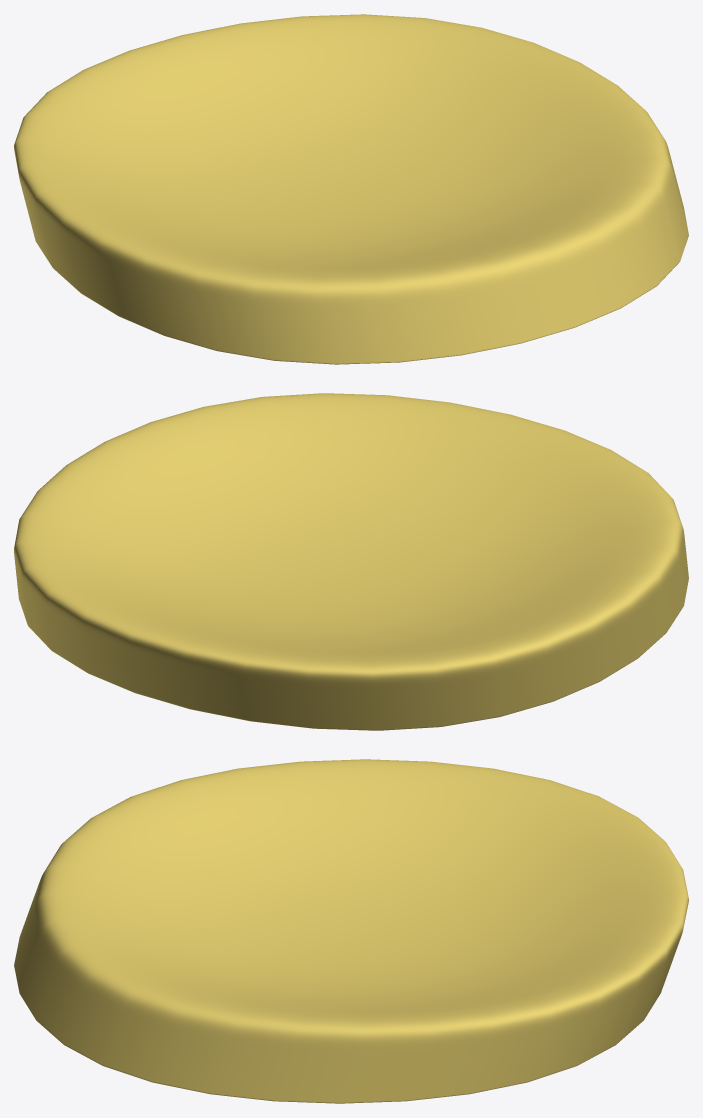
File: old coin.fbx
3 views of the same model, one above another, from view 1: azimuth 30°, elevation 25°; view 2: azimuth 150°, elevation 25°; view 3: azimuth 270°, elevation 25° (orthographic).
Visible parts, largest first — view 1: Old Coin; view 2: Old Coin; view 3: Old Coin.
Part boxes in pixels (x1,y1,x2,y2): Old Coin: (14,14,688,364); Old Coin: (14,393,688,730); Old Coin: (14,759,688,1103).
Bounding box in the file's own units: 8.91 × 1.04 × 9.12.
